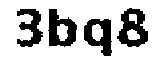3: (15, 6, 43, 48)
8: (117, 5, 151, 50)
b: (47, 4, 78, 51)
q: (82, 14, 116, 60)
